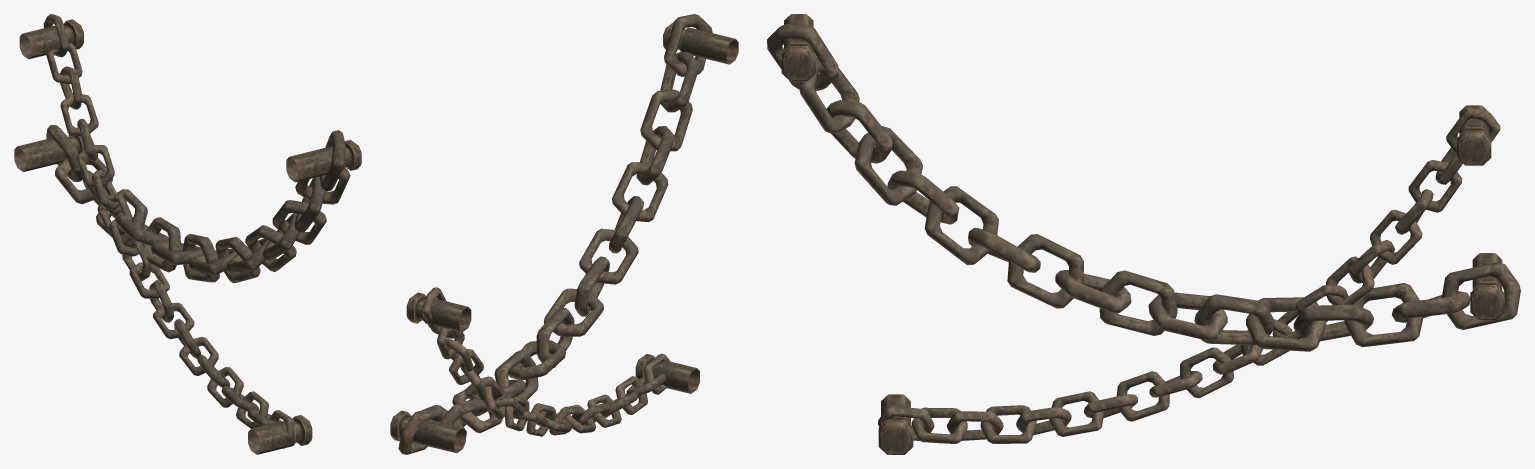
3 views of the same model, side by side, from view 1: azimuth 30°, elevation 25°; view 2: azimuth 150°, elevation 25°; view 3: azimuth 270°, elevation 25° (orthographic). The views are drawn at different scales.
Visible parts, largest first — view 1: SM_DR_Chain_Wall_02_LOD0; view 2: SM_DR_Chain_Wall_02_LOD0; view 3: SM_DR_Chain_Wall_02_LOD0.
Part boxes in pixels (box(x1,y1,x2,y2)): SM_DR_Chain_Wall_02_LOD0: box(14, 14, 361, 454); SM_DR_Chain_Wall_02_LOD0: box(390, 14, 738, 454); SM_DR_Chain_Wall_02_LOD0: box(767, 14, 1520, 454).
Bounding box in the file's own units: 0.4923 × 2.5 × 3.98.
Materials: 1 (1 with a texture image).
